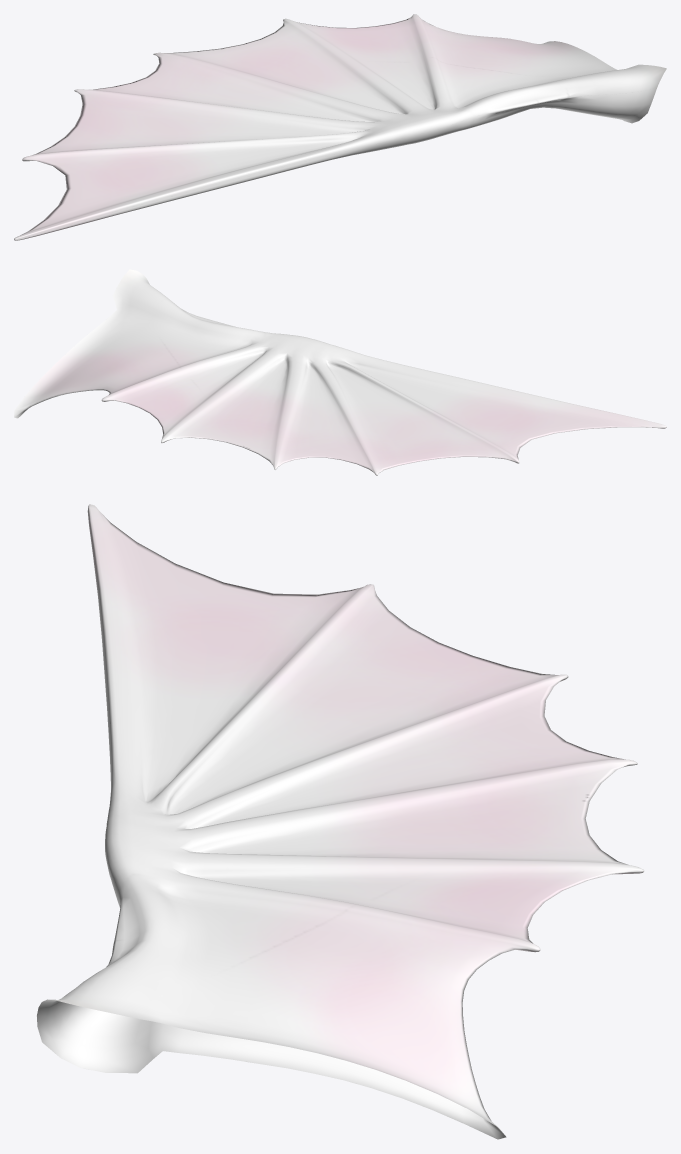
Rendered from aladerd1.obj.
3 views of the same model, one above another, from view 1: azimuth 30°, elevation 25°; view 2: azimuth 150°, elevation 25°; view 3: azimuth 270°, elevation 25° (orthographic). The views are drawn at different scales.
Visible parts, largest first — view 1: alaizq1; view 2: alaizq1; view 3: alaizq1.
Boxes of the visible parts, x1,y1,x2,y2 form: alaizq1: [14, 14, 666, 240]; alaizq1: [14, 269, 666, 475]; alaizq1: [37, 504, 643, 1139].
Bounding box in the file's own units: 0.5742 × 0.0686 × 0.2744.
Materials: 1 (1 with a texture image).
